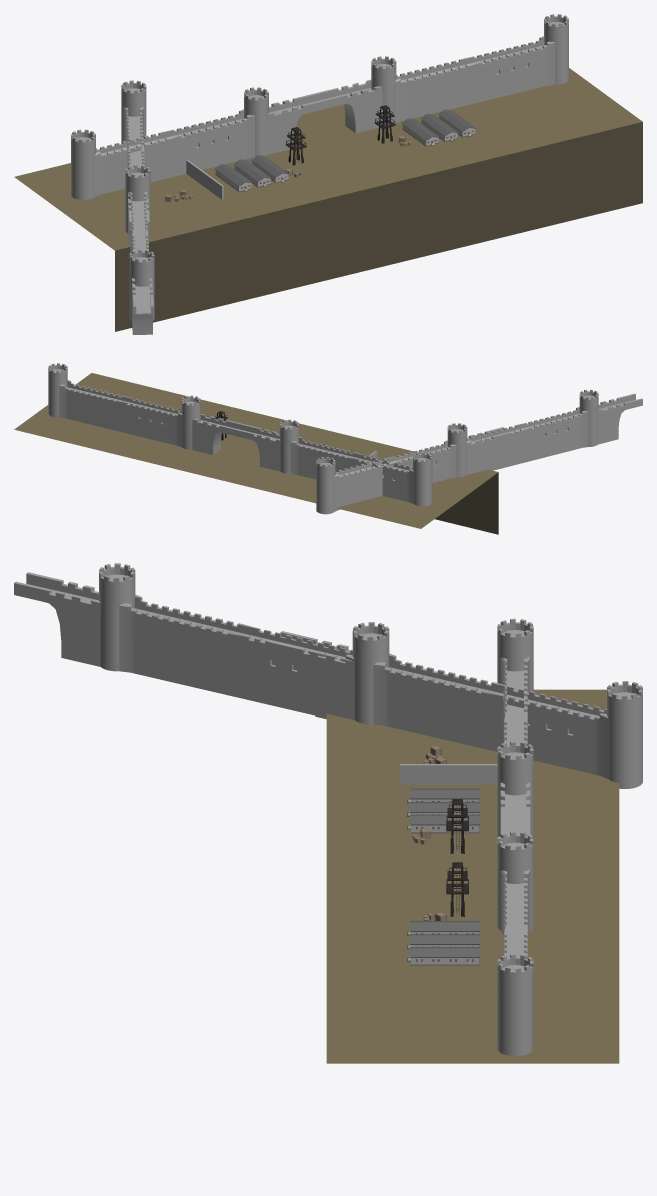
Rendered from barracks1.fbx.
3 views of the same model, one above another, from view 1: azimuth 30°, elevation 25°; view 2: azimuth 150°, elevation 25°; view 3: azimuth 270°, elevation 25° (orthographic). The views are drawn at different scales.
Visible parts, largest first — view 1: pPlane1, pasted__pasted__pCube5, pasted__pasted__pCube4, pasted__pasted__pCube8, pCube1 (×6), pasted__pasted__pCube6; view 2: pPlane1, pasted__pasted__pCube5, pasted__pasted__pCube8, pasted__pasted__pCube4, pasted__pasted__pCube6; view 3: pPlane1, pasted__pasted__pCube6, pasted__pasted__pCube8, pasted__pasted__pCube5, pasted__pasted__pCube4, pCube1 (×5).
Part boxes in pixels (x1=…): pPlane1: x1=14, y1=68, x2=642, y2=331; pasted__pasted__pCube5: x1=313, y1=14, x2=568, y2=133; pasted__pasted__pCube4: x1=71, y1=87, x2=326, y2=199; pasted__pasted__pCube8: x1=125, y1=165, x2=154, y2=334; pCube1 (×6): x1=215, y1=109, x2=476, y2=191; pasted__pasted__pCube6: x1=121, y1=80, x2=150, y2=246; pPlane1: x1=14, y1=373, x2=498, y2=534; pasted__pasted__pCube5: x1=48, y1=363, x2=244, y2=454; pasted__pasted__pCube8: x1=449, y1=389, x2=642, y2=477; pasted__pasted__pCube4: x1=235, y1=419, x2=432, y2=506; pasted__pasted__pCube6: x1=316, y1=423, x2=511, y2=514; pPlane1: x1=326, y1=689, x2=619, y2=1063; pasted__pasted__pCube6: x1=268, y1=622, x2=642, y2=788; pasted__pasted__pCube8: x1=14, y1=563, x2=385, y2=721; pasted__pasted__pCube5: x1=497, y1=821, x2=533, y2=1056; pasted__pasted__pCube4: x1=497, y1=618, x2=533, y2=837; pCube1 (×5): x1=407, y1=788, x2=480, y2=965.
Size of the model in its own units: 1935 by 427 by 1186.
